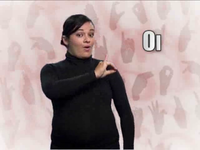oi: (94, 53, 119, 79)
